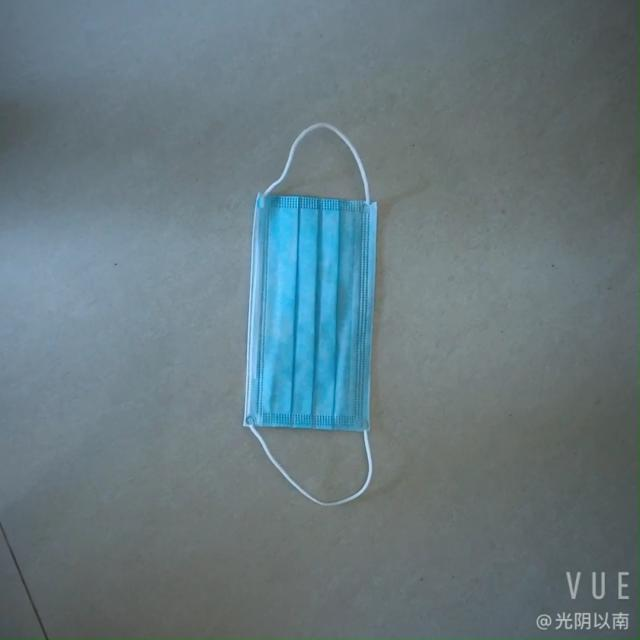non-organic waste: (226, 171, 389, 463)
